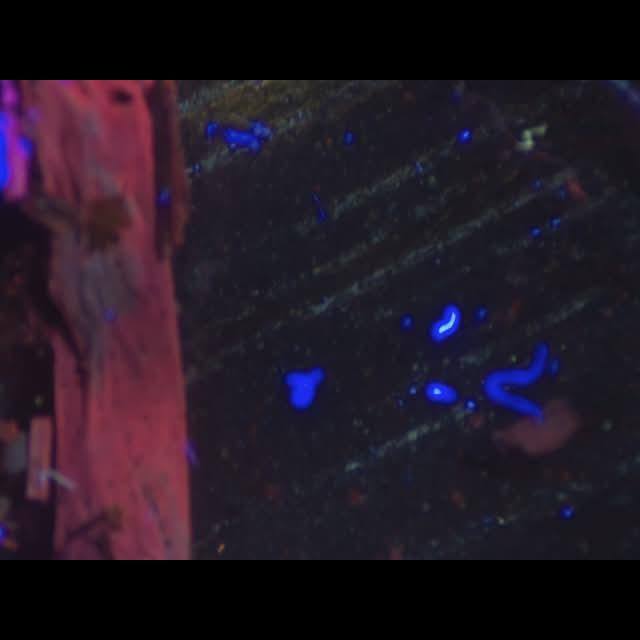Fibre: (516, 121, 546, 152)
